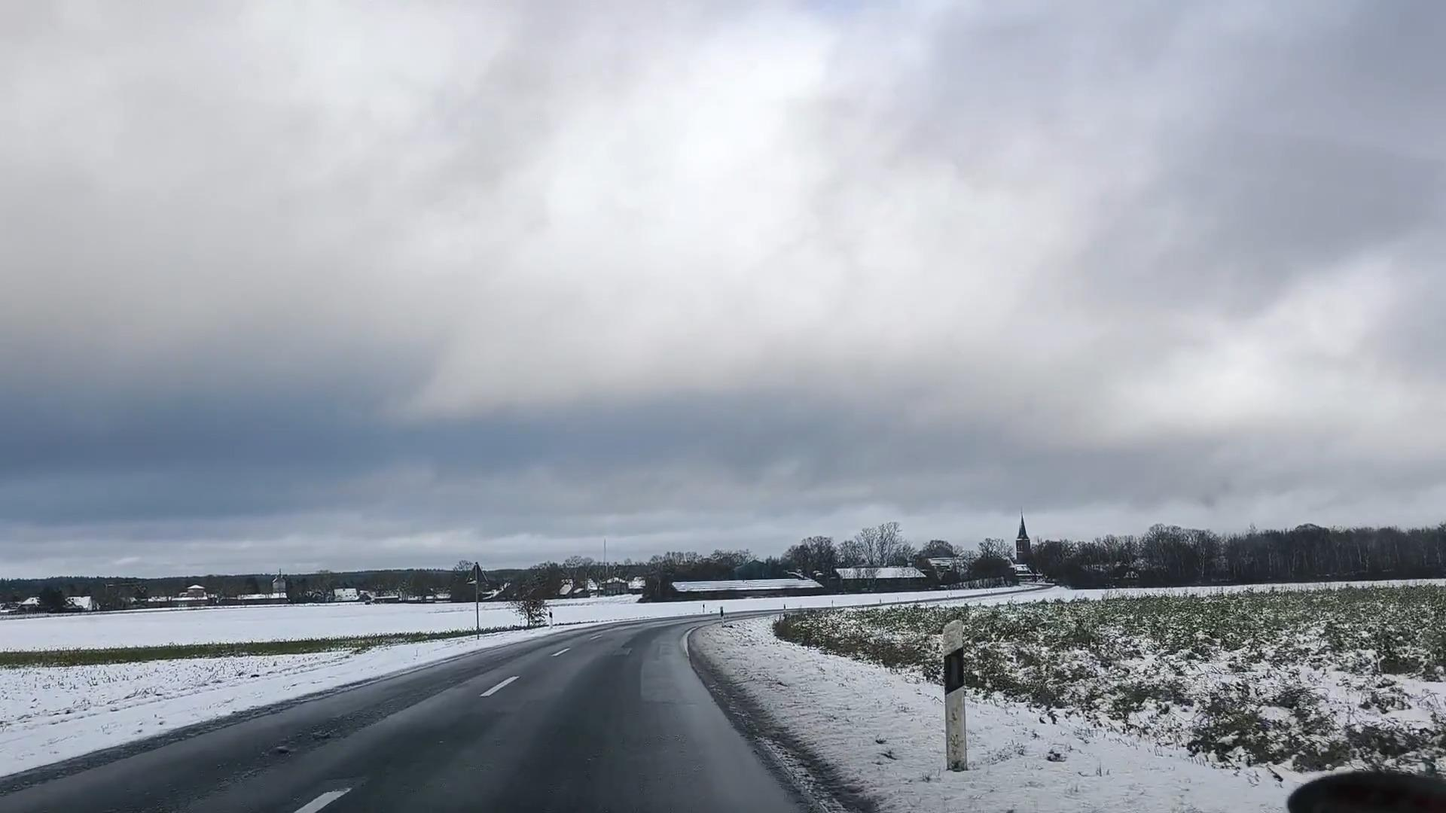Snow: (696, 585, 1446, 813), (0, 604, 624, 777)
wet: (0, 608, 822, 813)
